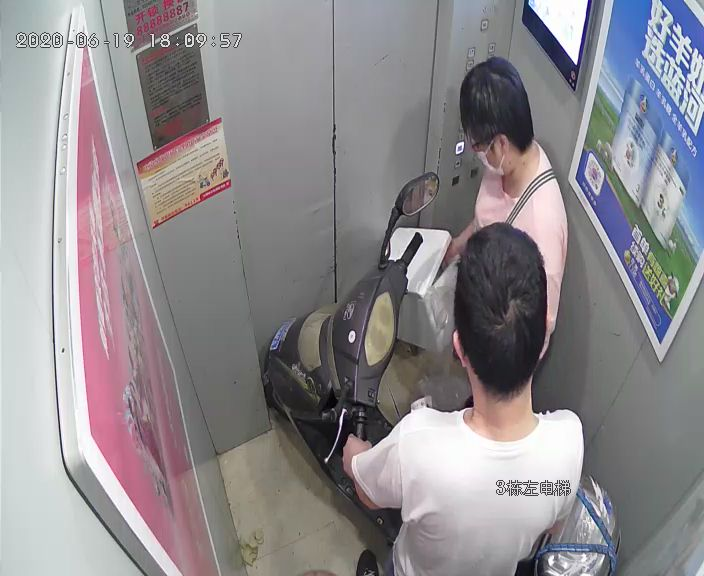Electric-bicycle: (268, 174, 612, 576)
